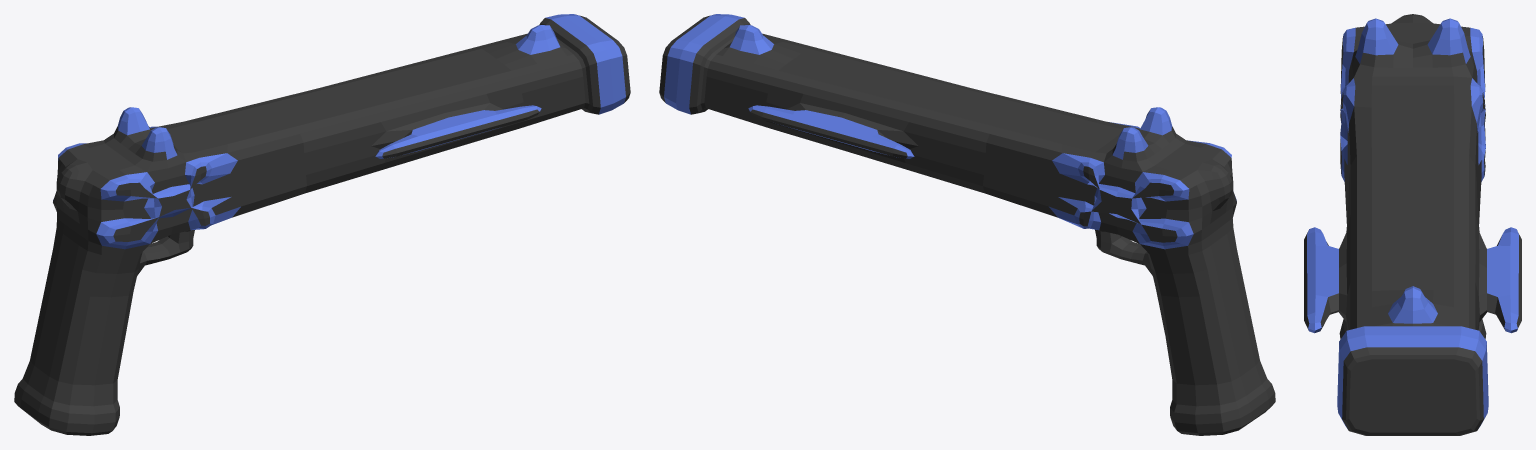
File: gun.fbx
3 views of the same model, side by side, from view 1: azimuth 30°, elevation 25°; view 2: azimuth 150°, elevation 25°; view 3: azimuth 270°, elevation 25° (orthographic). The views are drawn at different scales.
Visible parts, largest first — view 1: Cube; view 2: Cube; view 3: Cube.
Boxes of the visible parts, left/top/right/bottom form: Cube: left=14, top=14, right=630, bottom=435; Cube: left=659, top=14, right=1275, bottom=435; Cube: left=1304, top=14, right=1521, bottom=435.
Bounding box in the file's own units: 186 × 88.42 × 44.48.
